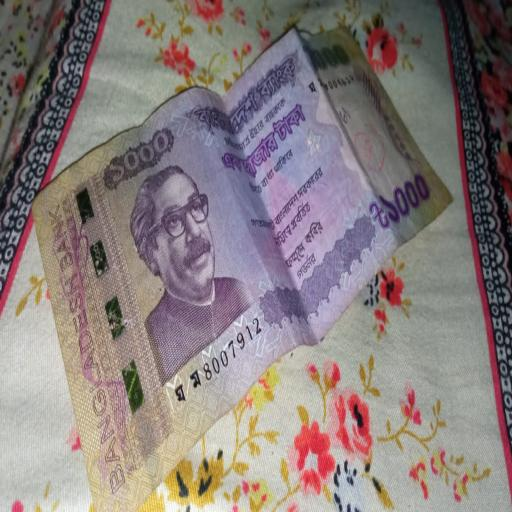1000taka: (35, 21, 451, 508)
